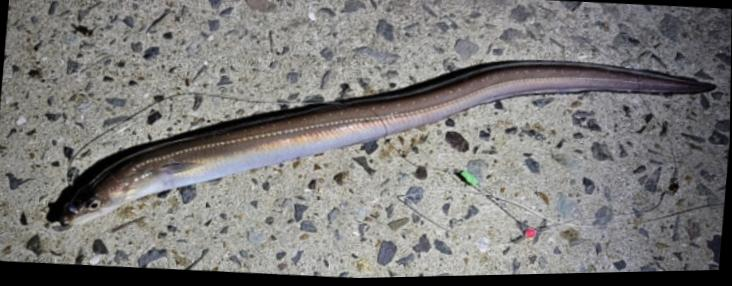fish: (49, 63, 716, 225)
